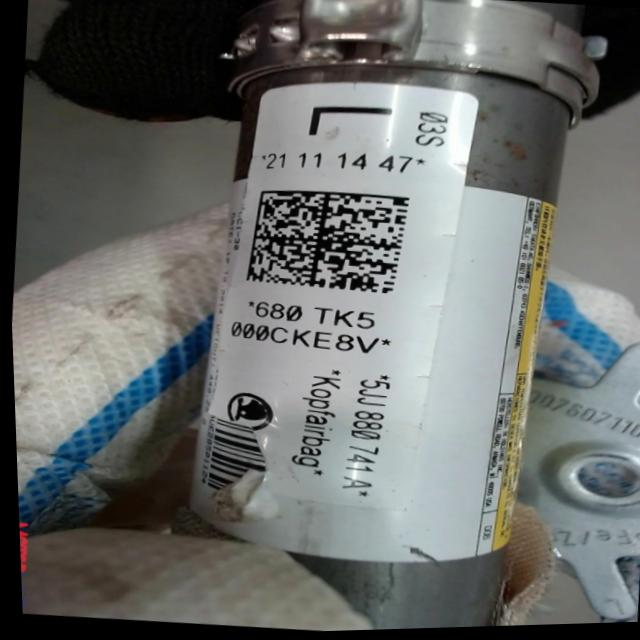datamatrix: (240, 186, 411, 302)
